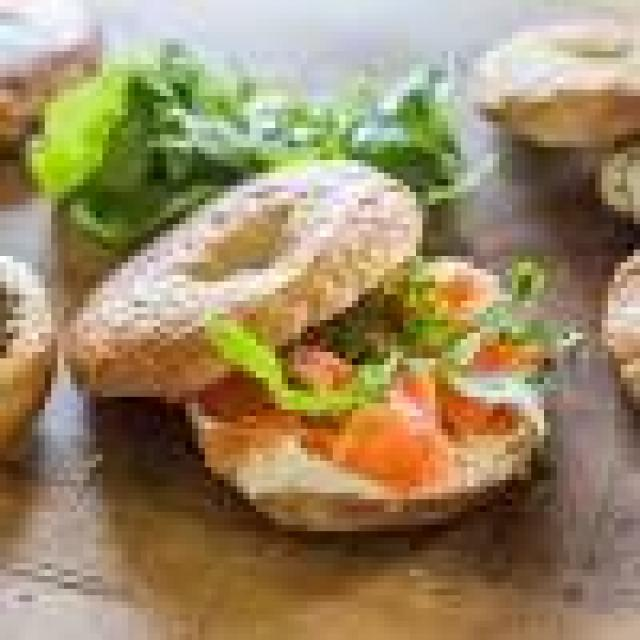Bagel: (71, 162, 422, 399)
